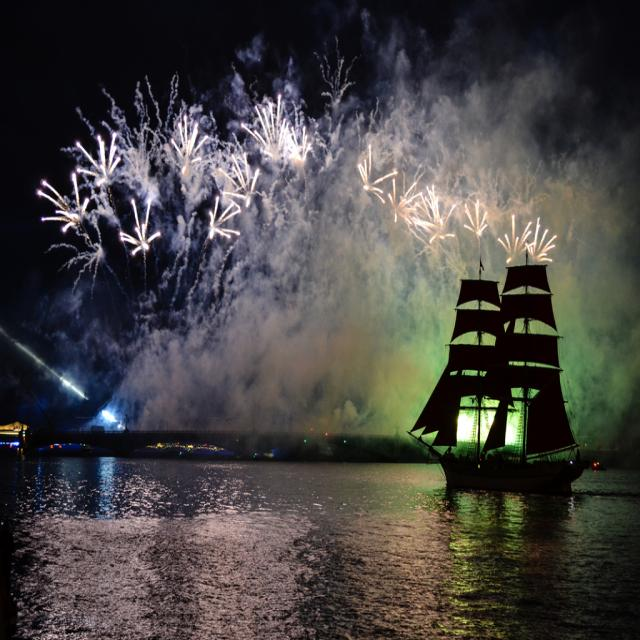Boat: (414, 218, 603, 478)
